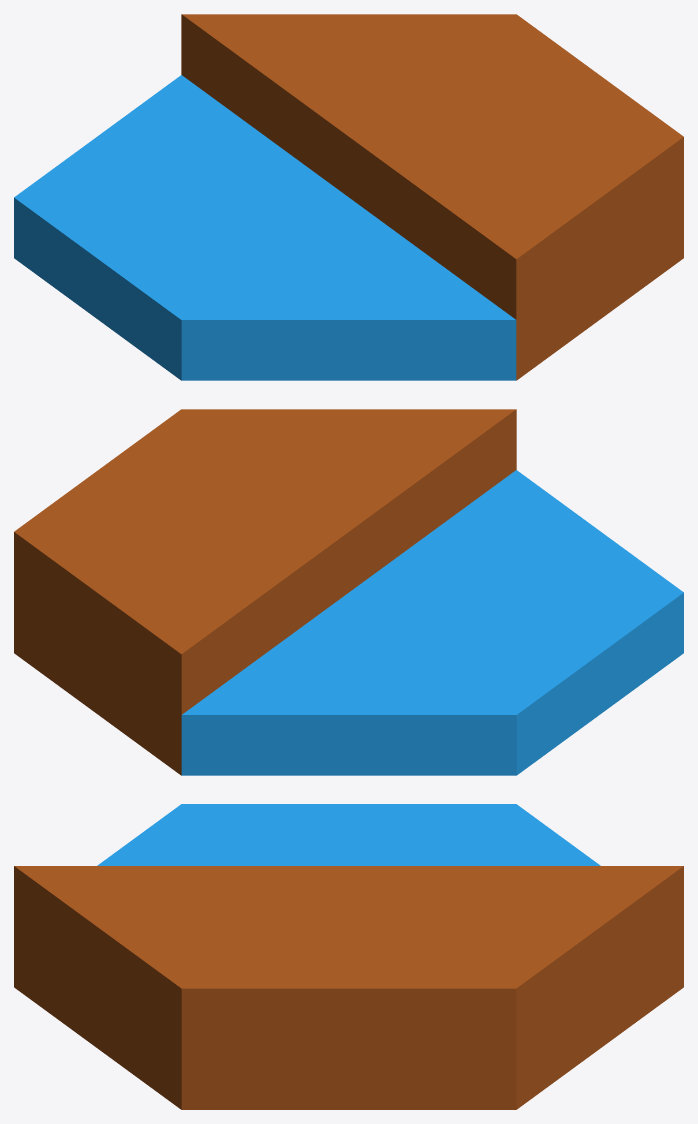
File: TileHex_23.fbx
3 views of the same model, one above another, from view 1: azimuth 30°, elevation 25°; view 2: azimuth 150°, elevation 25°; view 3: azimuth 270°, elevation 25° (orthographic).
Visible parts, largest first — view 1: TileHex_23; view 2: TileHex_23; view 3: TileHex_23.
Boxes of the visible parts, x1=… form: TileHex_23: x1=14, y1=14, x2=683, y2=380; TileHex_23: x1=14, y1=409, x2=683, y2=775; TileHex_23: x1=14, y1=804, x2=683, y2=1109.
Bounding box in the file's own units: 433 × 100 × 500.
